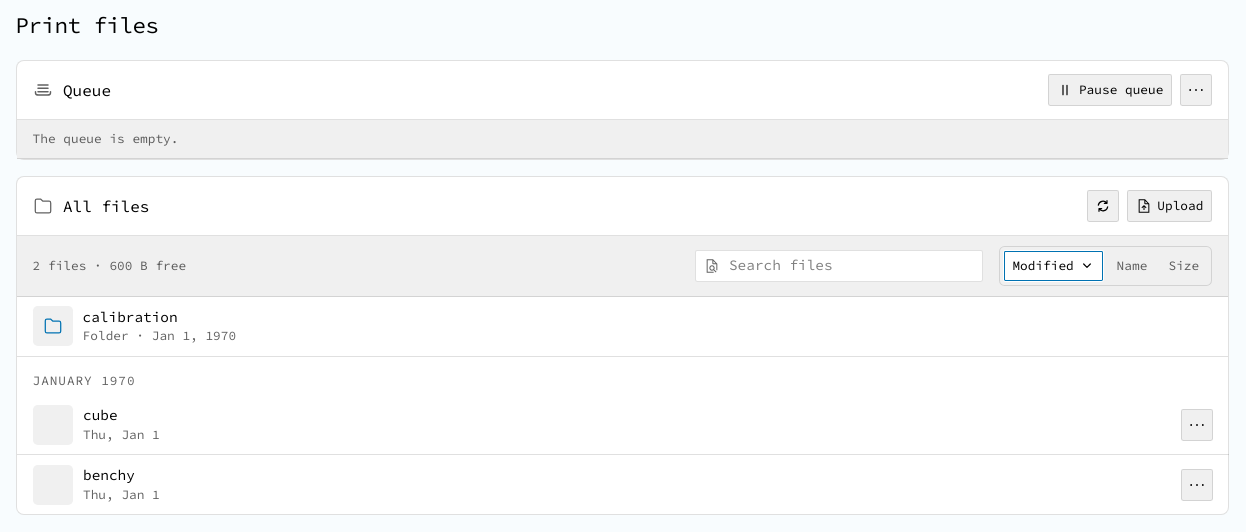
Test: Print files view › navigates into a folder and back out through the trail in the card title
Click the button with class "machine-row__toggle" that starts with "calibration" at (53,326), box [33, 306, 1176, 346]
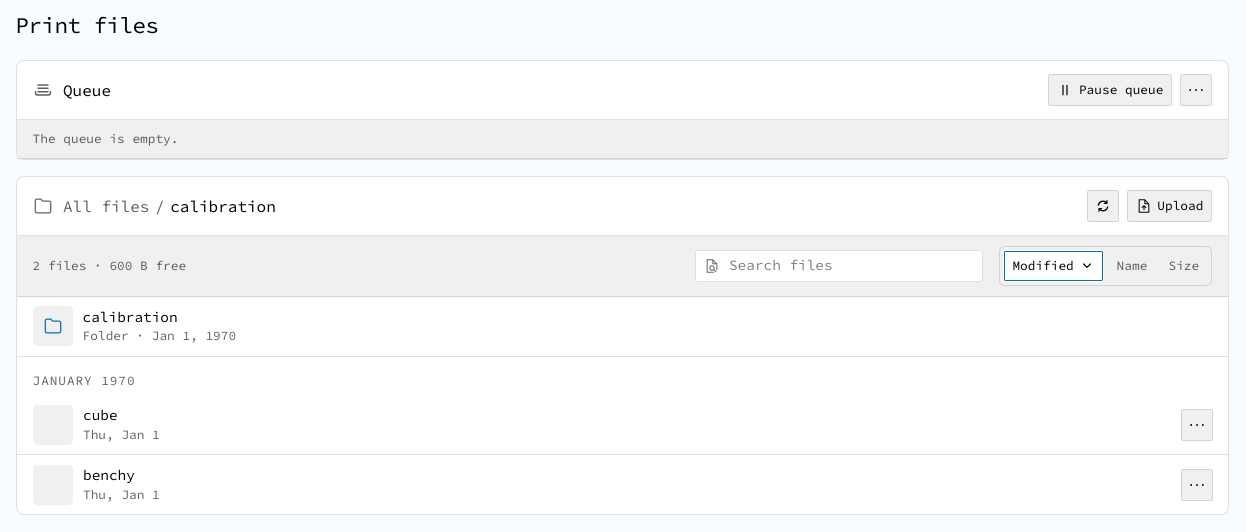
Result: the 1st text "calibration" is shown at [170, 194, 276, 218]
Click the button "All files" at (106,206), box [63, 194, 149, 218]
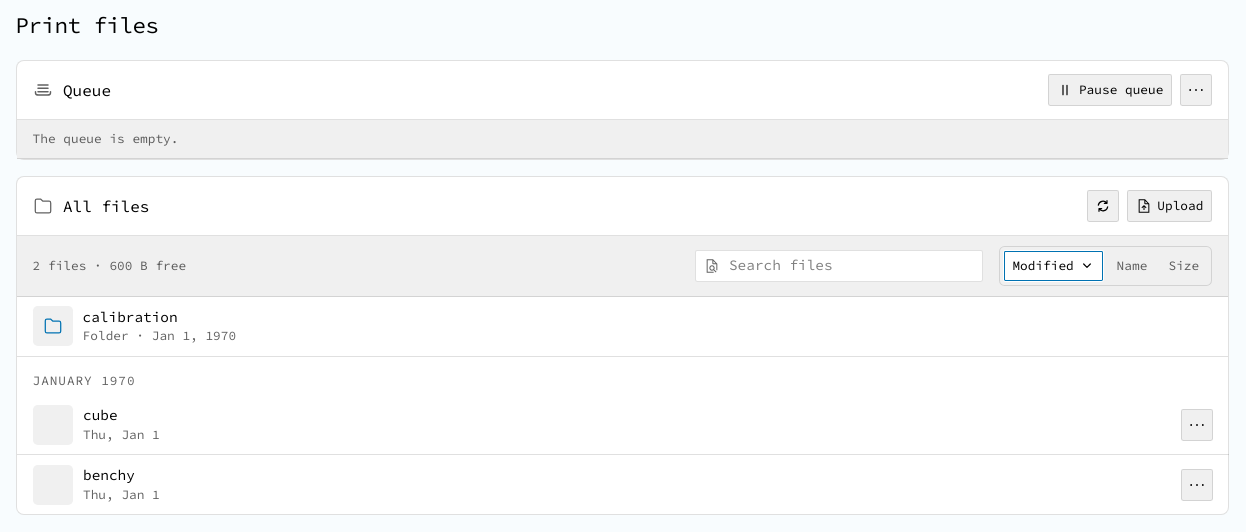
Result: the heading "All files" is shown at [63, 194, 149, 218]
